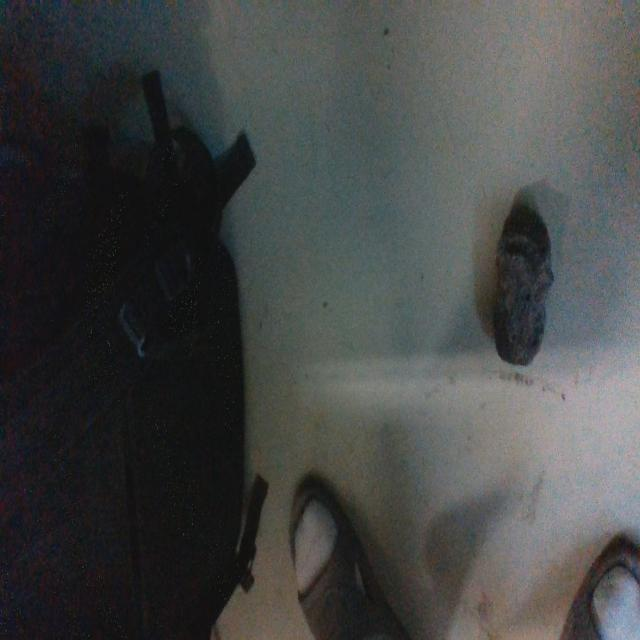stone: (494, 206, 554, 367)
